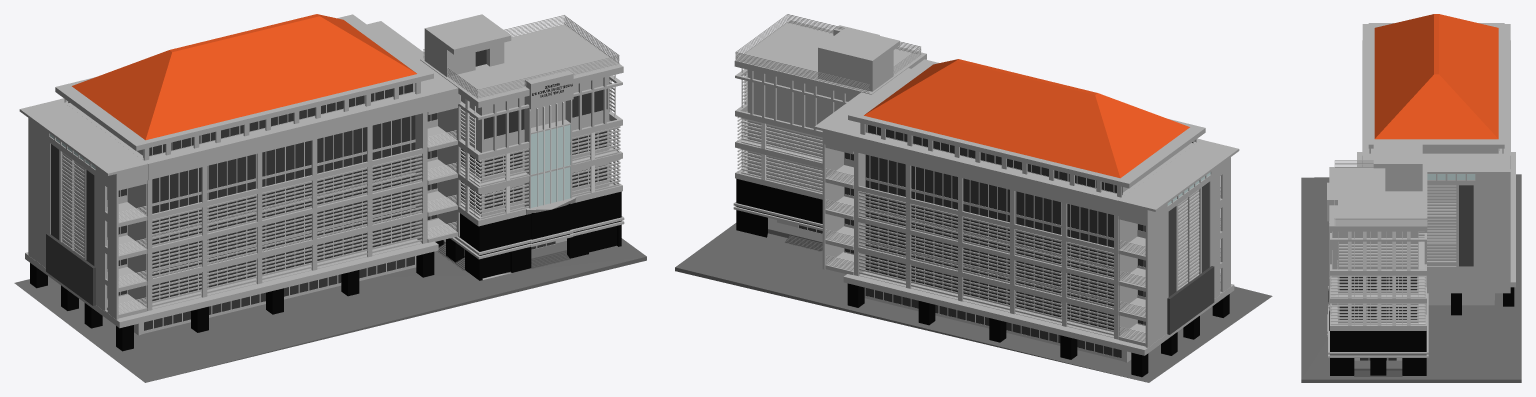
File: gedung .fbx
The picture shows the model from 3 angles, left to right: view 1: azimuth 30°, elevation 25°; view 2: azimuth 150°, elevation 25°; view 3: azimuth 270°, elevation 25°; orthographic projection. The views are drawn at different scales.
Parts seen in each view (by area): view 1: Cube.050, Cube.027, Plane, Cube.037, Cube.040, Cube.028, Cube.029, Cube.033, Cube.036, Cube.031, Cube.030, Cube.032 (+20 smaller); view 2: Cube.027, Cube.037, Cube.050, Cube.040, Plane, Cube.028, Cube.033, Cube.036, Cube.029, Cube.031, Cube.030, Cube.032 (+13 smaller); view 3: Cube.050, Cube.037, Plane, Cube.027, Cube.036, Cube.001, Cube.008, Cube.047, Cube.022, Cube.033, Cube.023, Cube.006 (+10 smaller).
Part boxes in pixels (x1,y1,x2,y2): Cube.050: (420,14,623,280); Cube.027: (19,21,460,335); Plane: (14,238,646,382); Cube.037: (72,14,416,140); Cube.040: (152,115,415,301); Cube.028: (152,154,422,246); Cube.029: (147,148,426,285); Cube.033: (25,239,438,328); Cube.036: (55,14,433,155); Cube.031: (152,218,422,309); Cube.030: (152,188,422,277); Cube.032: (147,112,427,310); Cube.027: (814,68,1239,362); Cube.037: (864,59,1189,178); Cube.050: (734,14,926,237); Cube.040: (865,154,1113,330); Plane: (675,218,1272,382); Cube.028: (859,191,1113,278); Cube.033: (843,271,1234,355); Cube.036: (848,59,1205,192); Cube.029: (858,185,1118,314); Cube.031: (859,252,1113,337); Cube.030: (859,224,1113,308); Cube.032: (854,152,1118,339); Cube.050: (1327,140,1427,375); Cube.037: (1374,14,1498,139); Plane: (1301,174,1521,382); Cube.027: (1362,24,1510,305); Cube.036: (1368,23,1504,153); Cube.001: (1328,232,1426,330); Cube.008: (1348,231,1410,325); Cube.047: (1419,185,1456,262); Cube.022: (1339,244,1417,266); Cube.033: (1357,152,1515,287); Cube.023: (1339,276,1417,290); Cube.006: (1330,275,1377,297).
Size of the model in its own units: 4747 by 2230 by 2147.
